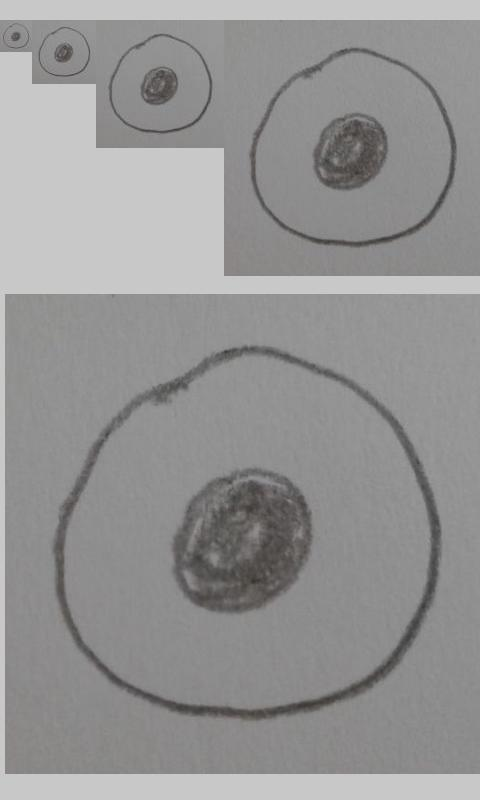radio_button: (51, 342, 442, 722), (248, 45, 459, 251), (108, 33, 213, 134), (38, 26, 92, 78), (2, 22, 30, 49)
